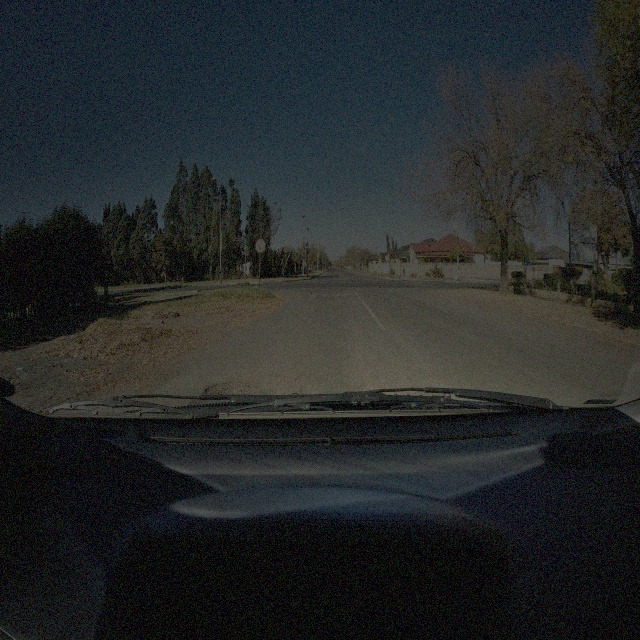pothole: (204, 374, 254, 399)
